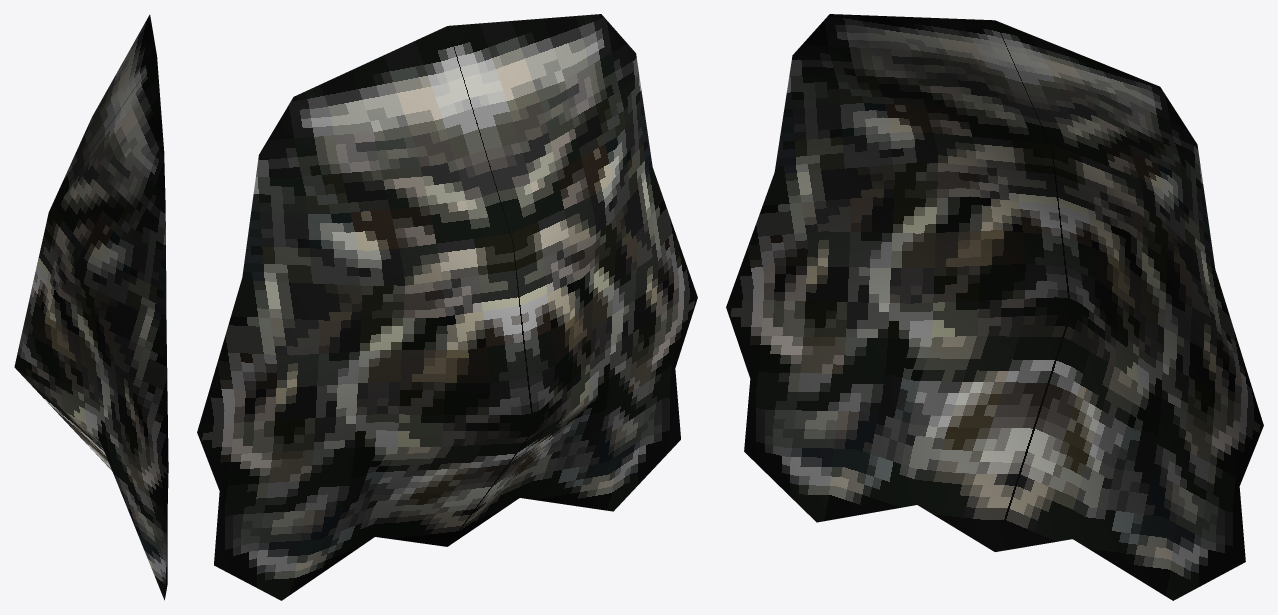
File: OVERHILL_A_01_LINE198.fbx
3 views of the same model, side by side, from view 1: azimuth 30°, elevation 25°; view 2: azimuth 150°, elevation 25°; view 3: azimuth 270°, elevation 25° (orthographic). The views are drawn at different scales.
Parts seen in each view (by area): view 1: OVERHILL_A_01_LINE198; view 2: OVERHILL_A_01_LINE198; view 3: OVERHILL_A_01_LINE198.
Part boxes in pixels (box(x1,y1,x2,y2)): OVERHILL_A_01_LINE198: box(14, 14, 168, 600); OVERHILL_A_01_LINE198: box(197, 14, 697, 600); OVERHILL_A_01_LINE198: box(726, 14, 1263, 600).
Bounding box in the file's own units: 2081 × 4353 × 3919.
1 material, 1 textured.
